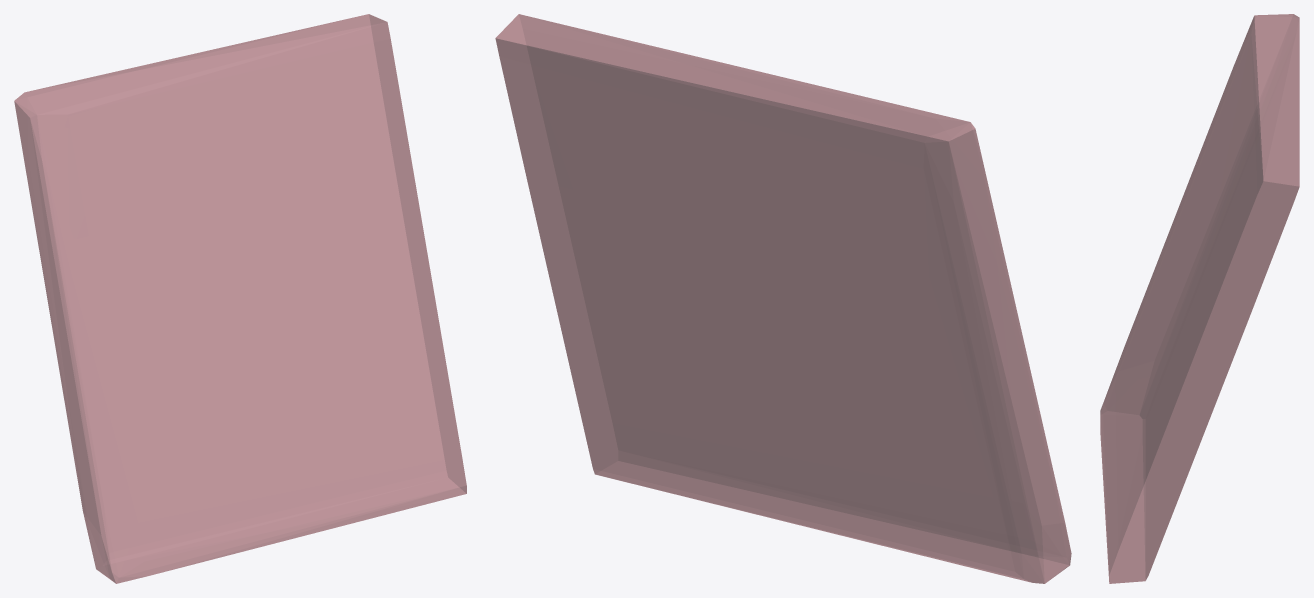
The picture shows the model from 3 angles, left to right: view 1: azimuth 30°, elevation 25°; view 2: azimuth 150°, elevation 25°; view 3: azimuth 270°, elevation 25°; orthographic projection. The views are drawn at different scales.
Visible parts, largest first — view 1: Shape_IndexedFaceSet.004_Shape_IndexedFaceSet.15148; view 2: Shape_IndexedFaceSet.004_Shape_IndexedFaceSet.15148; view 3: Shape_IndexedFaceSet.004_Shape_IndexedFaceSet.15148.
Part boxes in pixels (x1,y1,x2,y2): Shape_IndexedFaceSet.004_Shape_IndexedFaceSet.15148: [14, 14, 466, 583]; Shape_IndexedFaceSet.004_Shape_IndexedFaceSet.15148: [495, 14, 1071, 583]; Shape_IndexedFaceSet.004_Shape_IndexedFaceSet.15148: [1100, 14, 1299, 583].
Size of the model in its own units: 0.5381 by 0.5901 by 0.265.
